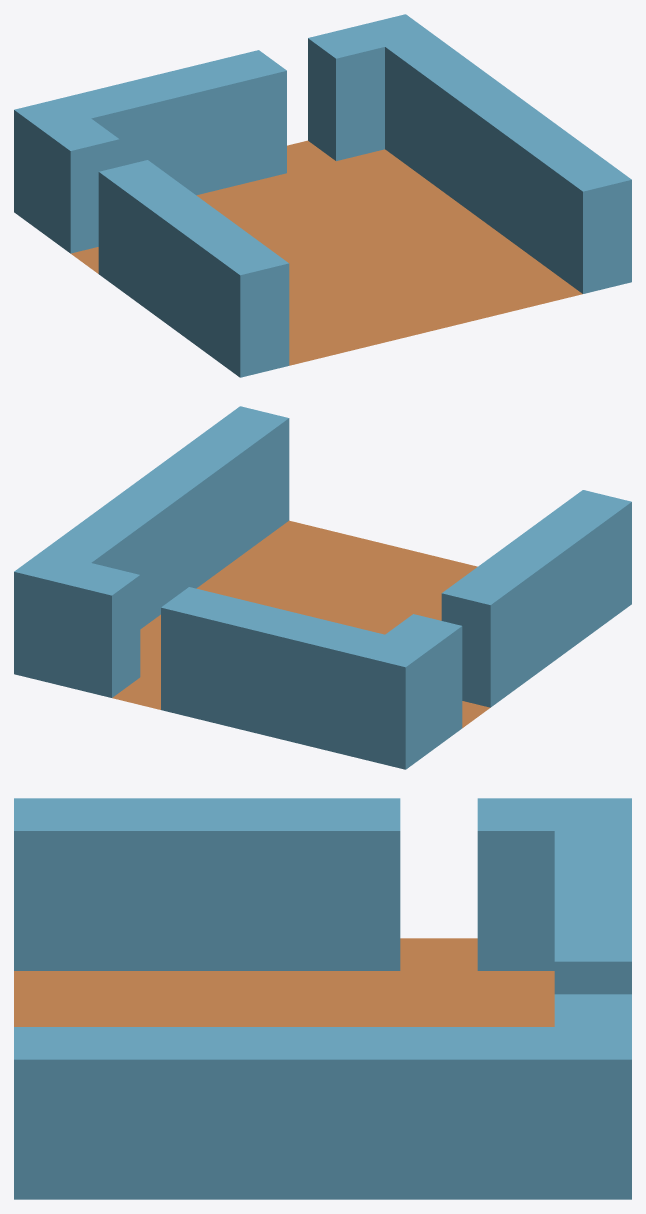
File: leveltest.dae
The picture shows the model from 3 angles, top to bottom: view 1: azimuth 30°, elevation 25°; view 2: azimuth 150°, elevation 25°; view 3: azimuth 270°, elevation 25°; orthographic projection. The views are drawn at different scales.
Parts seen in each view (by area): view 1: Cube_001, Cube; view 2: Cube_001, Cube; view 3: Cube_001, Cube.
Boxes of the visible parts, left/top/right/bottom form: Cube_001: left=14, top=14, right=631, bottom=377; Cube: left=71, top=140, right=582, bottom=365; Cube_001: left=14, top=406, right=631, bottom=769; Cube: left=112, top=520, right=490, bottom=727; Cube_001: left=14, top=798, right=631, bottom=1199; Cube: left=14, top=938, right=554, bottom=1026.
Size of the model in its own units: 8 by 8 by 2.
